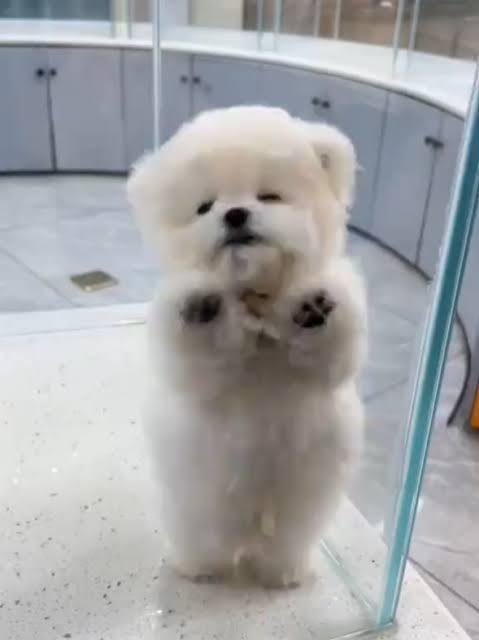puppy-dog: (123, 101, 371, 591)
